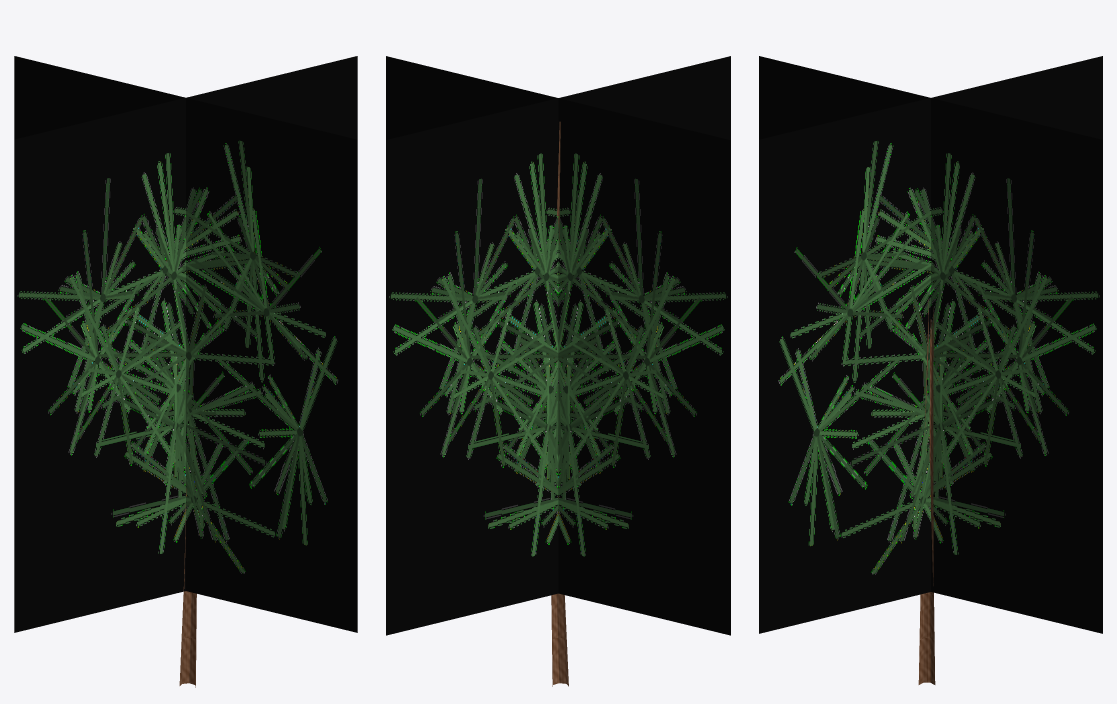
File: Pine_Dense_LOD2.glb
The picture shows the model from 3 angles, left to right: view 1: azimuth 30°, elevation 25°; view 2: azimuth 150°, elevation 25°; view 3: azimuth 270°, elevation 25°; orthographic projection.
Parts seen in each view (by area): view 1: Foliage_Cross_0, Foliage_Cross_1, Trunk_Mesh; view 2: Foliage_Cross_2, Foliage_Cross_0, Trunk_Mesh; view 3: Foliage_Cross_1, Foliage_Cross_2, Trunk_Mesh.
Boxes of the visible parts, bbox=[...] form: Foliage_Cross_0: bbox=[14, 56, 357, 632]; Foliage_Cross_1: bbox=[14, 56, 357, 632]; Trunk_Mesh: bbox=[179, 488, 196, 687]; Foliage_Cross_2: bbox=[386, 56, 730, 635]; Foliage_Cross_0: bbox=[386, 56, 730, 635]; Trunk_Mesh: bbox=[551, 121, 568, 686]; Foliage_Cross_1: bbox=[759, 56, 1102, 633]; Foliage_Cross_2: bbox=[759, 56, 1102, 633]; Trunk_Mesh: bbox=[918, 299, 935, 684].
Bounding box in the file's own units: 9.87 × 16.14 × 8.55.
Materials: 2 (2 with a texture image).
